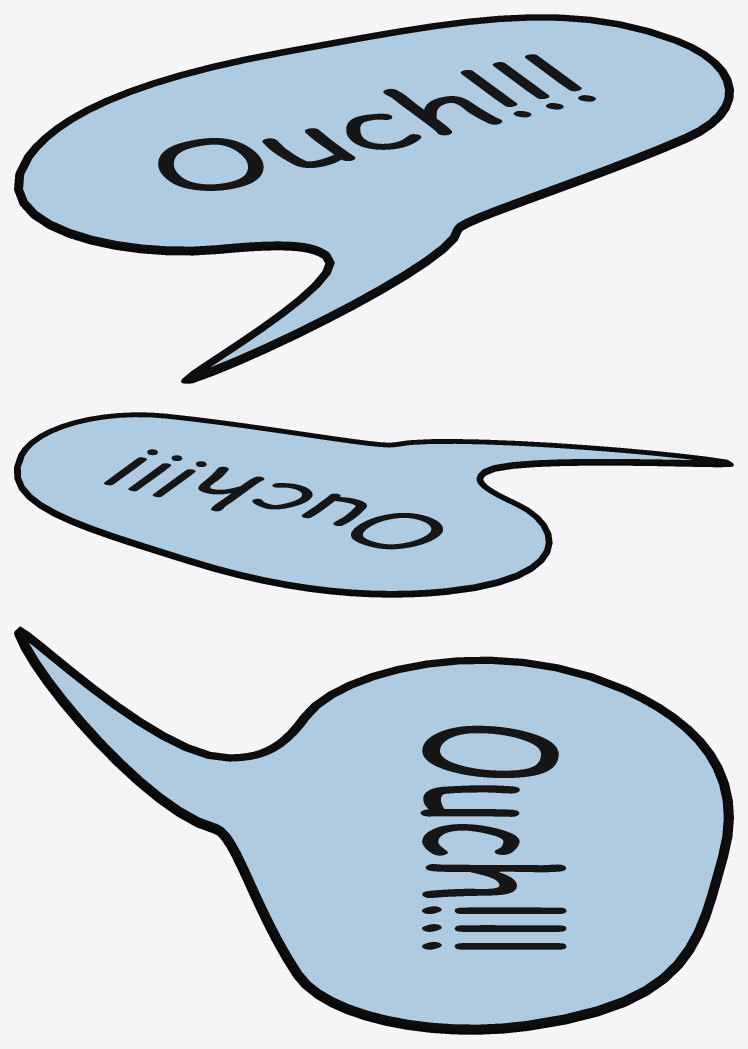
Rendered from Ouch.fbx.
3 views of the same model, one above another, from view 1: azimuth 30°, elevation 25°; view 2: azimuth 150°, elevation 25°; view 3: azimuth 270°, elevation 25° (orthographic). The views are drawn at different scales.
Parts seen in each view (by area): view 1: BezierCircle.004, BezierCircle.005, Text.002; view 2: BezierCircle.004, BezierCircle.005, Text.002; view 3: BezierCircle.004, BezierCircle.005, Text.002.
Part boxes in pixels (x1,y1,x2,y2): BezierCircle.004: (23,20,724,366); BezierCircle.005: (14,14,733,383); Text.002: (158,54,595,190); BezierCircle.004: (20,417,691,590); BezierCircle.005: (14,412,733,597); Text.002: (104,449,442,549); BezierCircle.004: (29,643,723,1024); BezierCircle.005: (14,626,733,1034); Text.002: (420,725,566,949).
Size of the model in its own units: 188 by 2.58 by 142.
